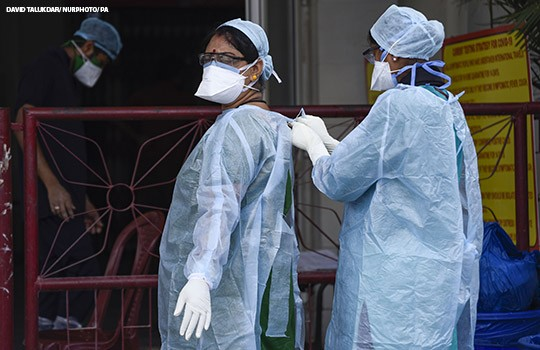Coverall: (312, 85, 485, 350), (157, 106, 304, 350)
Gloves: (173, 277, 214, 341), (290, 112, 341, 163)
with_mask: (197, 54, 244, 103), (72, 47, 109, 89), (367, 47, 397, 95)
